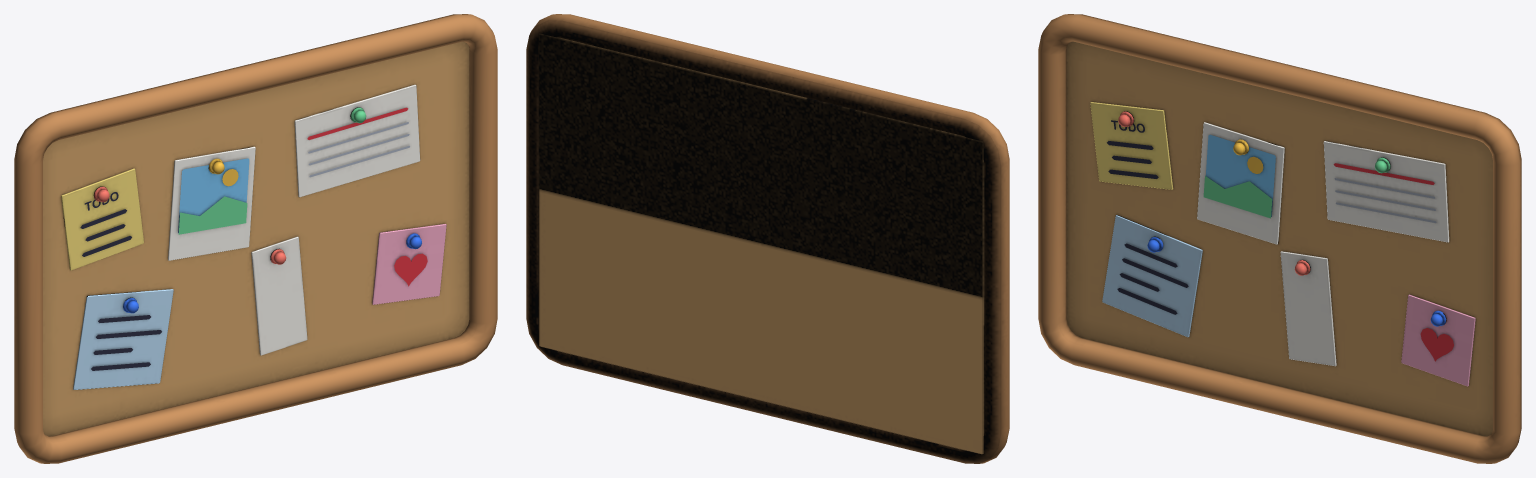
The model's file is cork_board.glb.
3 views of the same model, side by side, from view 1: azimuth 30°, elevation 25°; view 2: azimuth 150°, elevation 25°; view 3: azimuth 330°, elevation 25° (orthographic).
Parts seen in each view (by area): view 1: cork_board; view 2: cork_board; view 3: cork_board.
Boxes of the visible parts, box(x1,y1,x2,y2) form: cork_board: box(14, 14, 497, 463); cork_board: box(526, 14, 1009, 463); cork_board: box(1038, 14, 1521, 463).
Size of the model in its own units: 0.9224 by 0.6424 by 0.0473.
16 materials, 16 textured.
